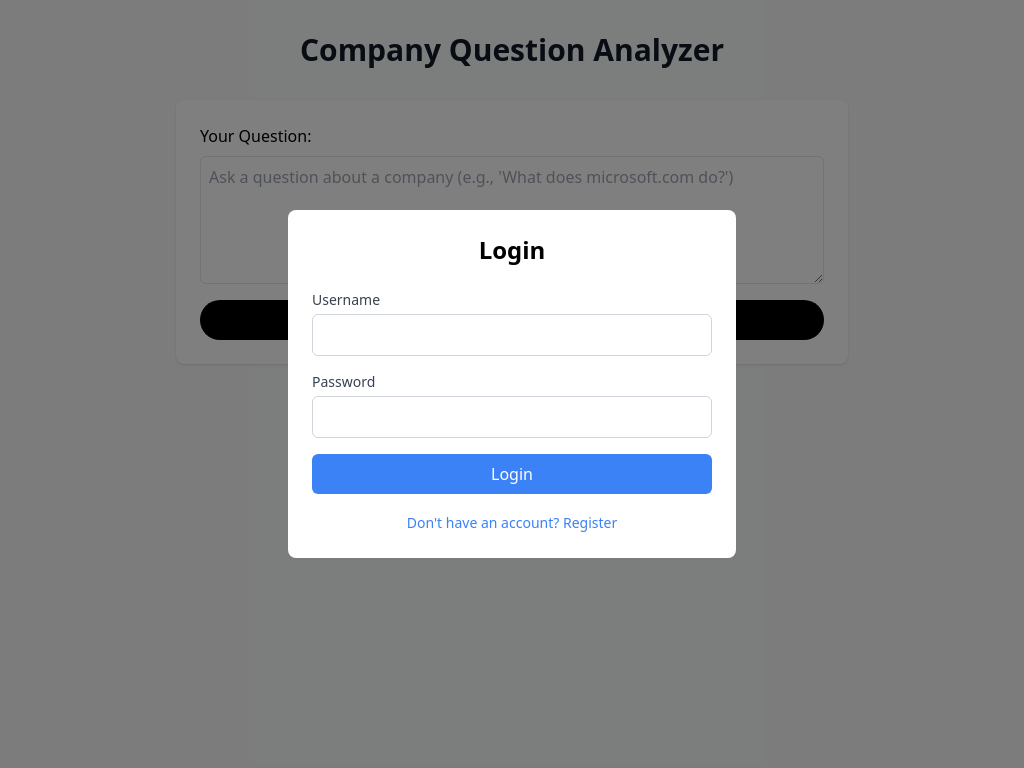
Test: Integration Tests › Authentication Integration Tests › should complete registration flow successfully
// Switch to register mode
Click the button "Don't have an account? Register": (512, 523) x1=407 y1=513 x2=617 y2=533
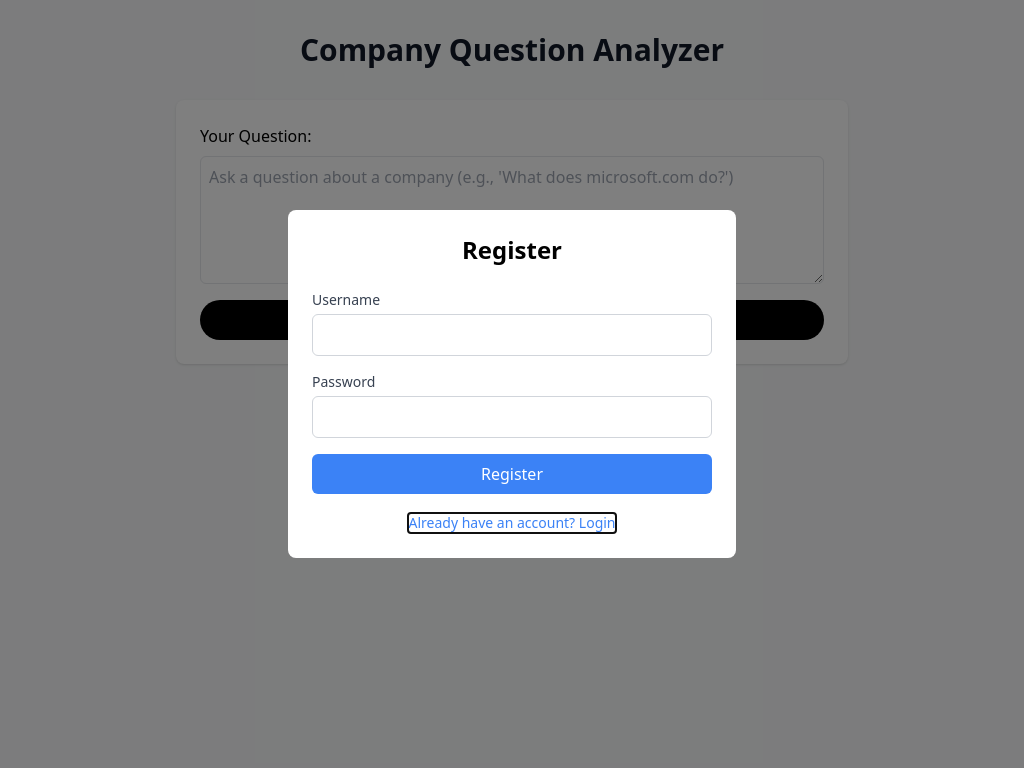
Result: the heading "Register" is shown at x1=462 y1=233 x2=562 y2=266
In the field labelled "Username": (512, 335) x1=312 y1=314 x2=712 y2=356, type "newuser"
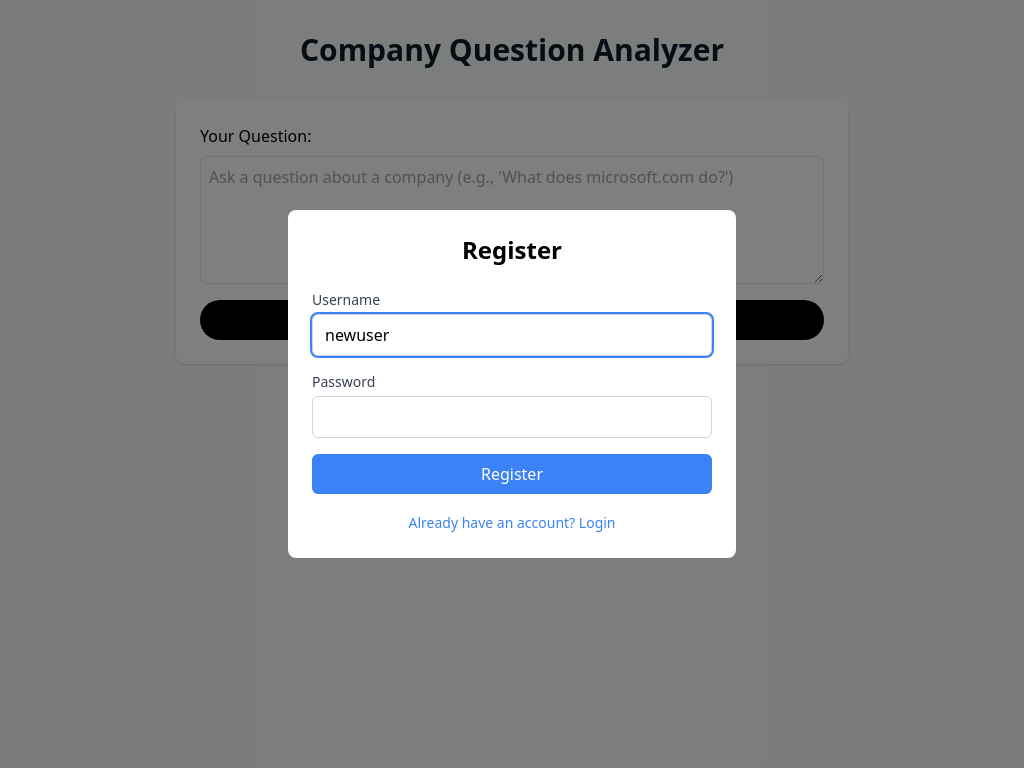
In the password field labelled "Password": (512, 417) x1=312 y1=396 x2=712 y2=438, type "password123"
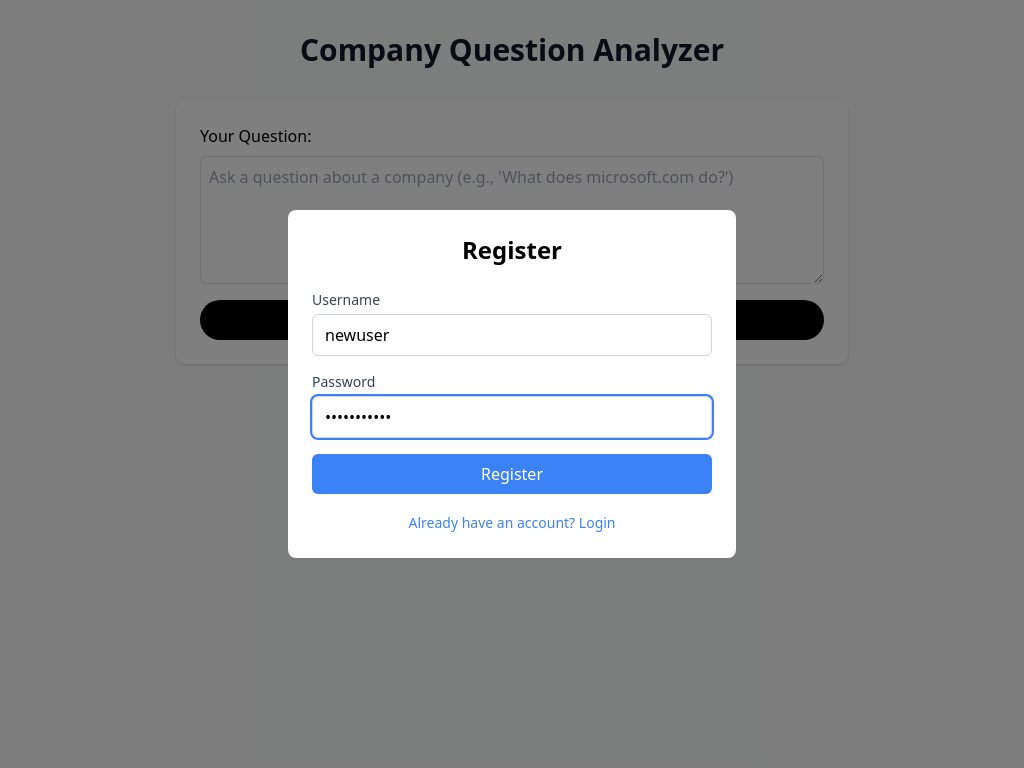
Click the button "Register": (512, 474) x1=312 y1=454 x2=712 y2=494
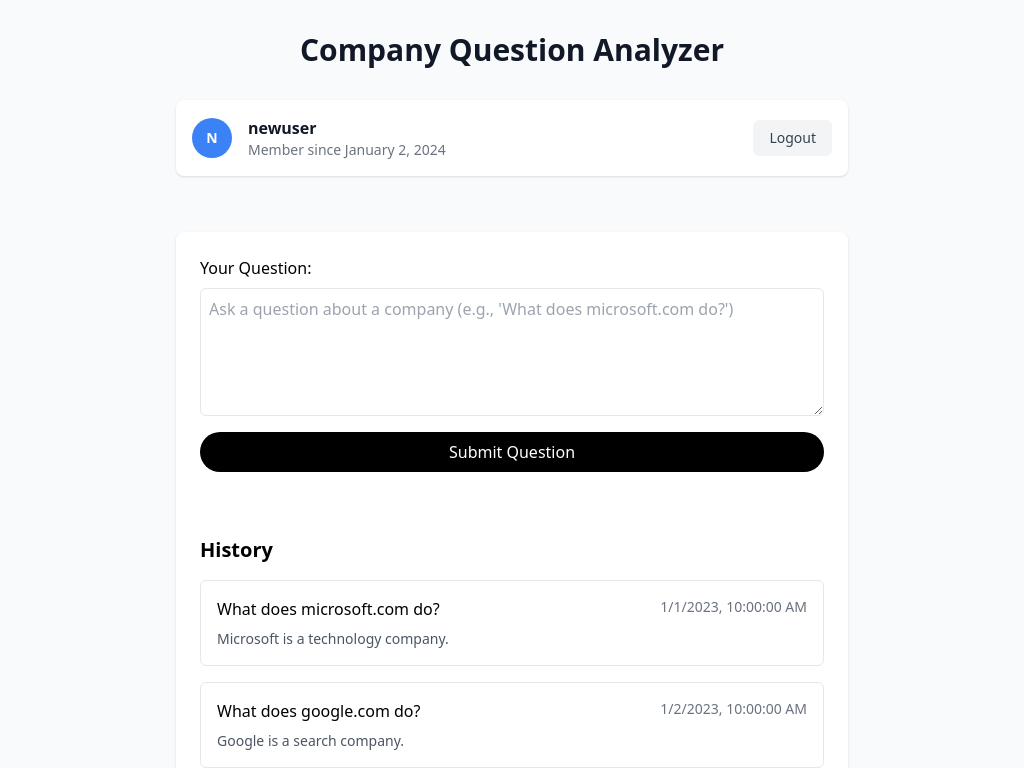
Result: the heading "Register" is gone
Result: the heading "newuser" is shown at x1=248 y1=117 x2=316 y2=139
Result: the text "Member since January 2, 2024" is shown at x1=248 y1=140 x2=446 y2=160
